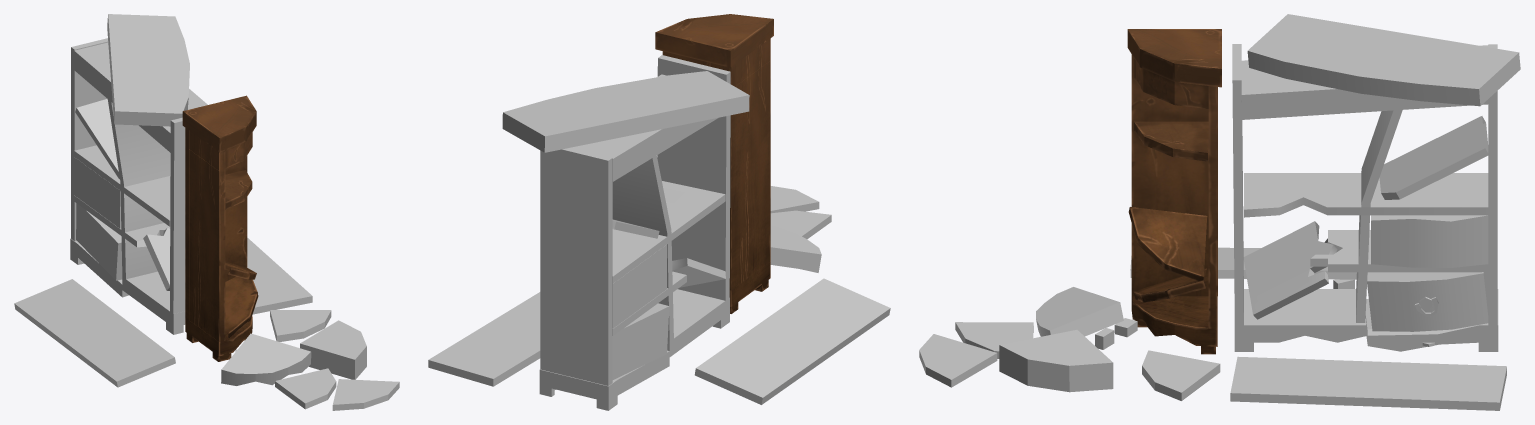
File: broken almari.fbx
The picture shows the model from 3 angles, left to right: view 1: azimuth 30°, elevation 25°; view 2: azimuth 150°, elevation 25°; view 3: azimuth 270°, elevation 25°; orthographic projection. The views are drawn at different scales.
Visible parts, largest first — view 1: broken_self_3:polySurface1_Broken_table_3_0, broken_table__lp:polySurface1_Broken_table_1_0, curvd_brokentable:polySurface1_Broken_table_2_0; view 2: broken_self_3:polySurface1_Broken_table_3_0, broken_table__lp:polySurface1_Broken_table_1_0, curvd_brokentable:polySurface1_Broken_table_2_0; view 3: broken_self_3:polySurface1_Broken_table_3_0, broken_table__lp:polySurface1_Broken_table_1_0, curvd_brokentable:polySurface1_Broken_table_2_0.
Part boxes in pixels (bbox=[...]): broken_self_3:polySurface1_Broken_table_3_0: bbox=[70, 14, 207, 334]; broken_table__lp:polySurface1_Broken_table_1_0: bbox=[14, 238, 399, 410]; curvd_brokentable:polySurface1_Broken_table_2_0: bbox=[182, 95, 258, 361]; broken_self_3:polySurface1_Broken_table_3_0: bbox=[502, 55, 749, 410]; broken_table__lp:polySurface1_Broken_table_1_0: bbox=[428, 186, 890, 404]; curvd_brokentable:polySurface1_Broken_table_2_0: bbox=[655, 14, 773, 313]; broken_self_3:polySurface1_Broken_table_3_0: bbox=[1232, 14, 1520, 351]; broken_table__lp:polySurface1_Broken_table_1_0: bbox=[919, 247, 1506, 410]; curvd_brokentable:polySurface1_Broken_table_2_0: bbox=[1127, 29, 1221, 354].
Size of the model in its own units: 1922 by 1680 by 3136.
